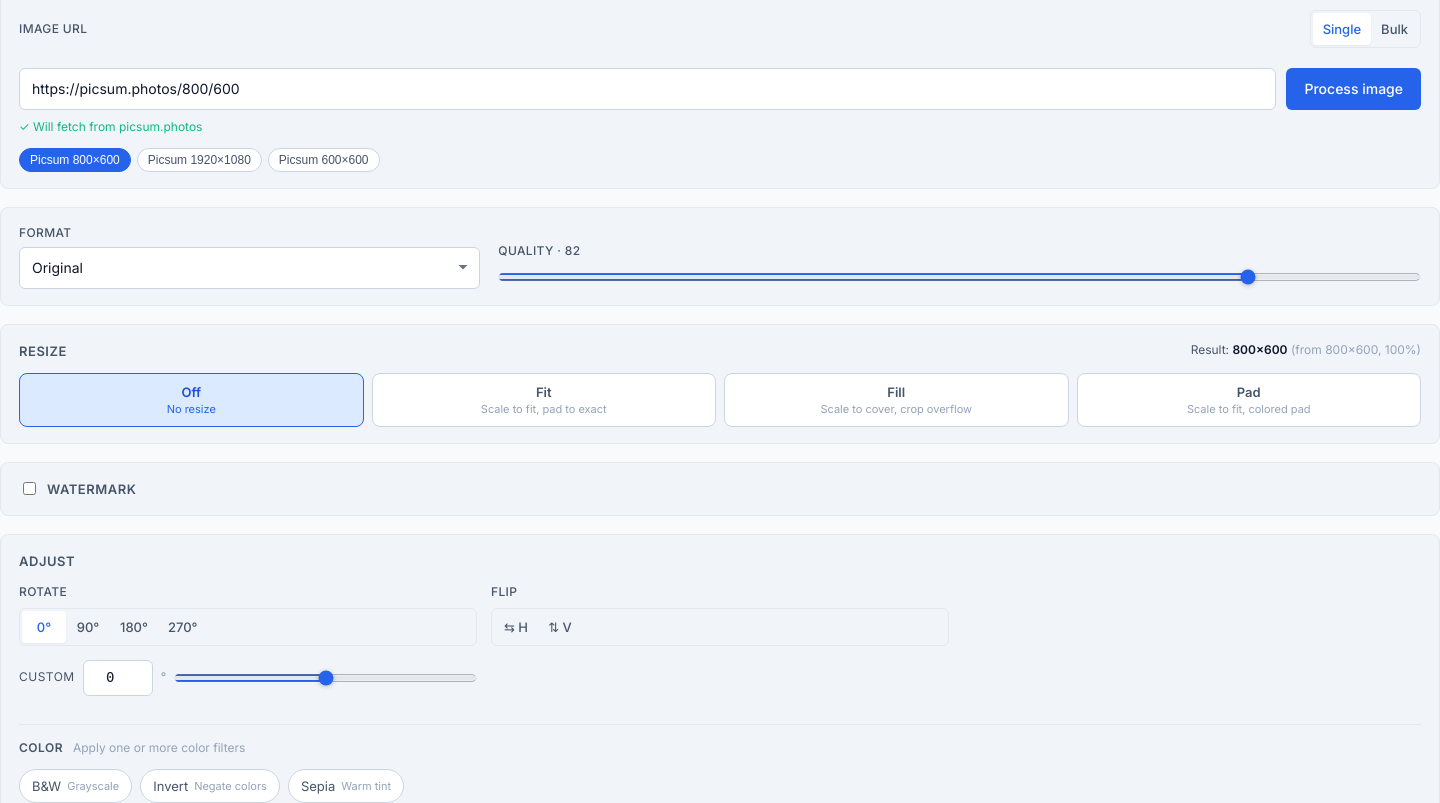
JobForm › watermark placement toggle appears when rotation is non-zero and defaults to 'pre-rotation'
Note: Enable watermark
Click the checkbox labelled "Watermark": (30, 489) top-left (23, 482), bottom-right (36, 495)
(page scrolled)
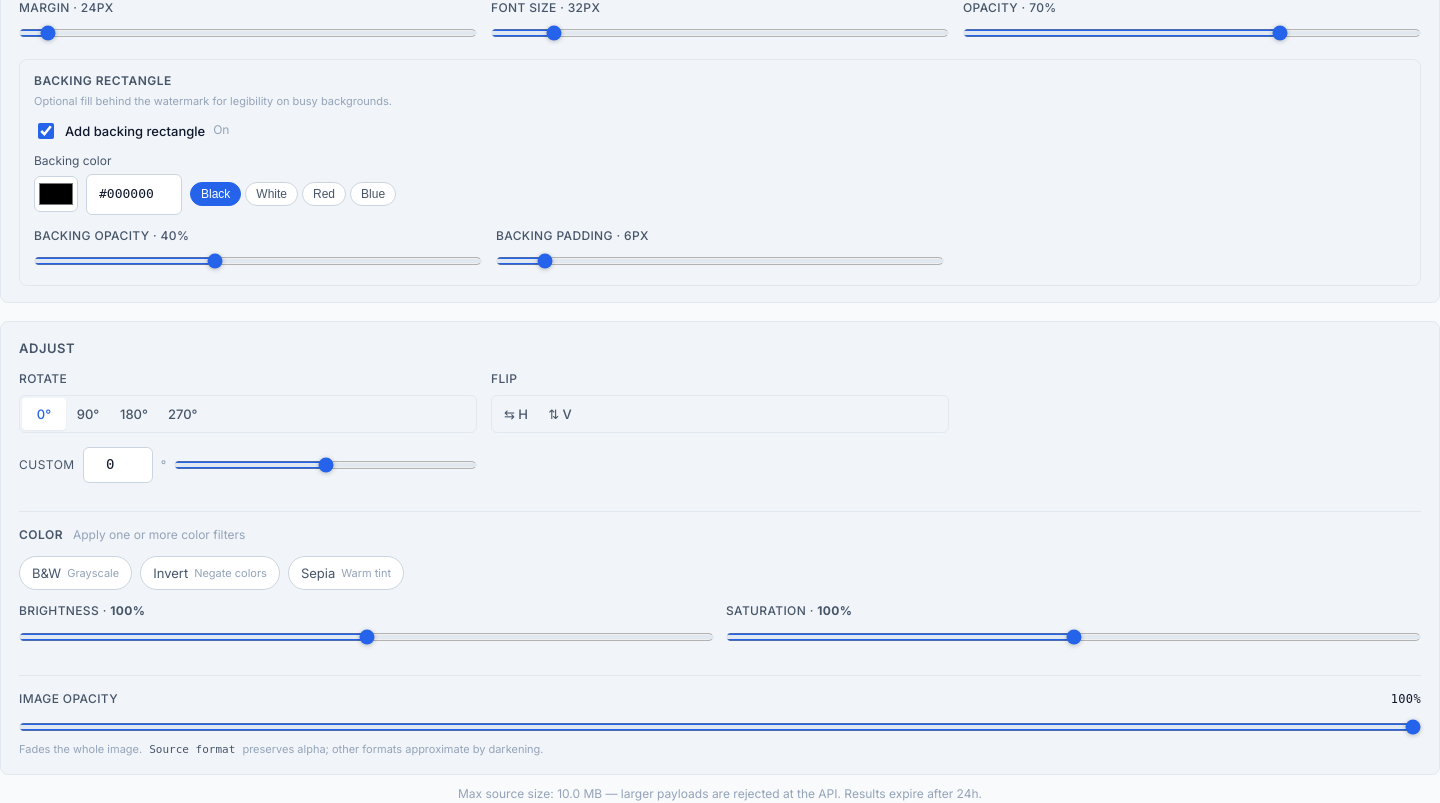
Note: Set a custom rotation
Replace the text in the number field named "custom rotation angle" with "30": (118, 465) top-left (83, 447), bottom-right (153, 483)
(page scrolled)
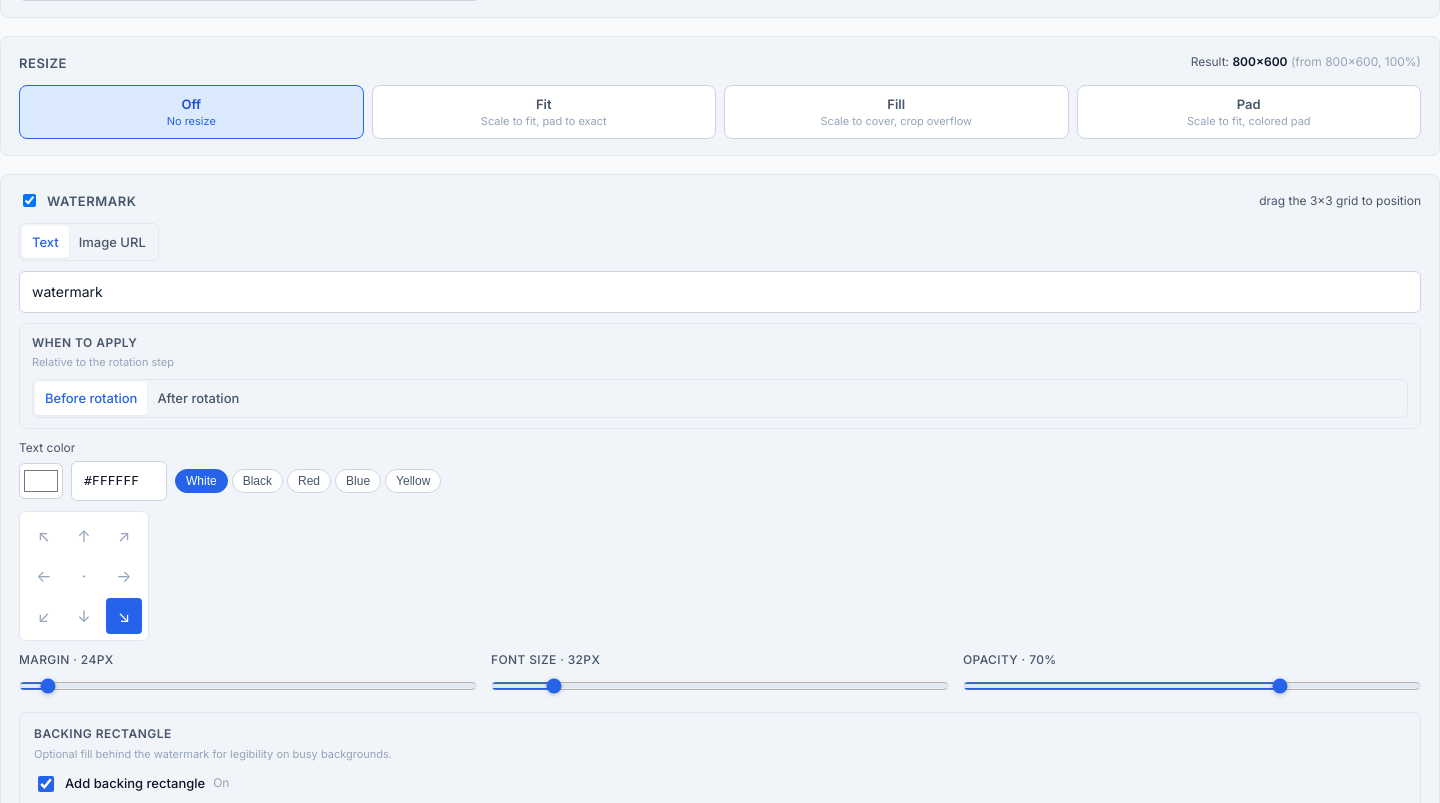
Expected: the element named "watermark placement" is shown, top-left (32, 380), bottom-right (1408, 418)
